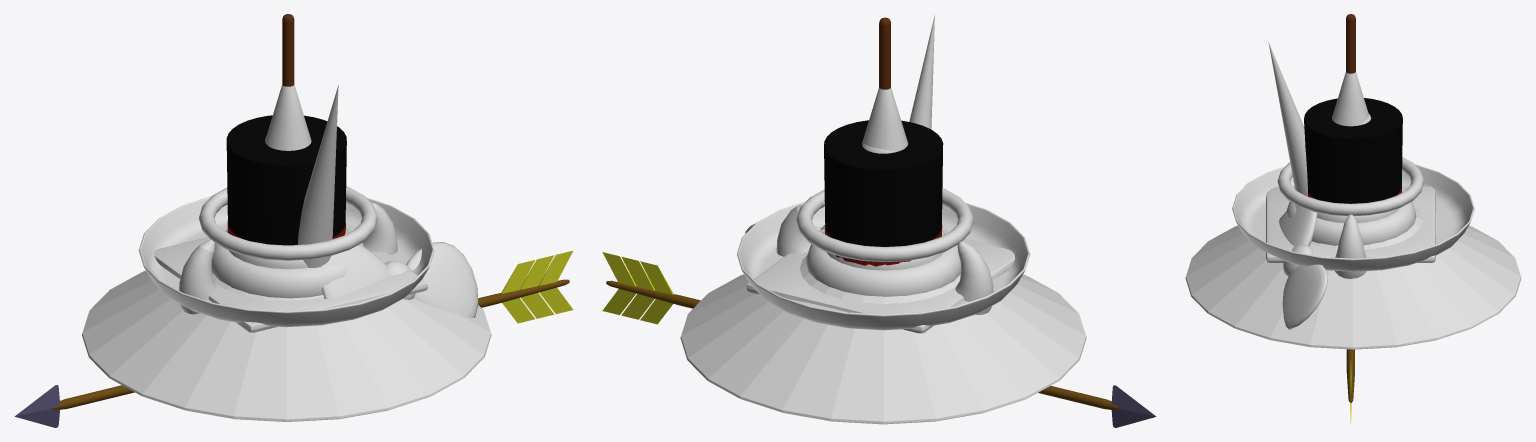
The model's file is Sombreros1.fbx.
3 views of the same model, side by side, from view 1: azimuth 30°, elevation 25°; view 2: azimuth 150°, elevation 25°; view 3: azimuth 270°, elevation 25° (orthographic). The views are drawn at different scales.
Parts seen in each view (by area): view 1: SombreroChino, SombreroCopa, SombreroMexicano, Cono, Lazo, Flecha, Caca, Aureola, CuernoUnicornio, Cuernos, Desatascador; view 2: SombreroChino, SombreroCopa, SombreroMexicano, Cono, Flecha, Caca, Aureola, Cuernos, CuernoUnicornio, Desatascador; view 3: SombreroChino, SombreroCopa, SombreroMexicano, Cono, Lazo, Caca, Aureola, CuernoUnicornio, Cuernos, Desatascador, Flecha.
Boxes of the visible parts, box(x1,y1,x2,y2) form: SombreroChino: box(82, 270, 491, 421); SombreroCopa: box(226, 115, 346, 245); SombreroMexicano: box(138, 136, 434, 327); Cono: box(154, 84, 427, 332); Lazo: box(321, 242, 478, 317); Flecha: box(15, 250, 573, 427); Caca: box(211, 228, 364, 298); Aureola: box(199, 186, 377, 260); CuernoUnicornio: box(297, 85, 338, 267); Cuernos: box(179, 202, 397, 314); Desatascador: box(282, 14, 294, 86); SombreroChino: box(680, 255, 1086, 424); SombreroCopa: box(824, 120, 943, 266); SombreroMexicano: box(737, 143, 1030, 330); Cono: box(746, 87, 1014, 333); Flecha: box(602, 252, 1156, 427); Caca: box(806, 229, 960, 296); Aureola: box(796, 188, 973, 262); Cuernos: box(776, 204, 993, 314); CuernoUnicornio: box(909, 15, 934, 128); Desatascador: box(879, 17, 890, 89); SombreroChino: box(1185, 207, 1521, 349); SombreroCopa: box(1304, 98, 1402, 203); SombreroMexicano: box(1232, 114, 1474, 271); Cono: box(1266, 72, 1435, 262); Lazo: box(1279, 204, 1327, 329); Caca: box(1286, 192, 1416, 245); Aureola: box(1277, 157, 1424, 216); CuernoUnicornio: box(1268, 42, 1307, 196); Cuernos: box(1335, 214, 1366, 278); Desatascador: box(1346, 14, 1355, 73); Flecha: box(1346, 349, 1354, 424).
Bounding box in the file's own units: 1.26 × 0.7878 × 0.8024.
